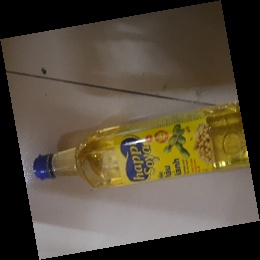Happy Soya: (33, 96, 256, 190)
